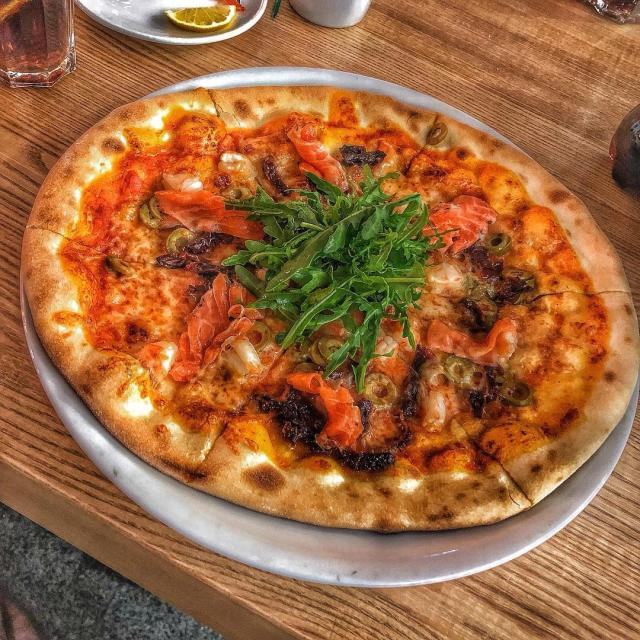green_olives: (362, 372, 398, 408), (444, 352, 473, 383), (501, 380, 534, 407), (166, 228, 196, 256), (319, 336, 349, 363), (249, 320, 272, 352), (420, 360, 448, 386), (136, 202, 162, 227), (310, 337, 332, 365), (468, 362, 488, 392), (222, 184, 253, 202), (500, 268, 536, 282), (107, 255, 134, 273), (490, 234, 514, 254), (485, 231, 507, 251), (150, 196, 168, 220), (292, 362, 318, 376)
pizza: (16, 82, 640, 537)
